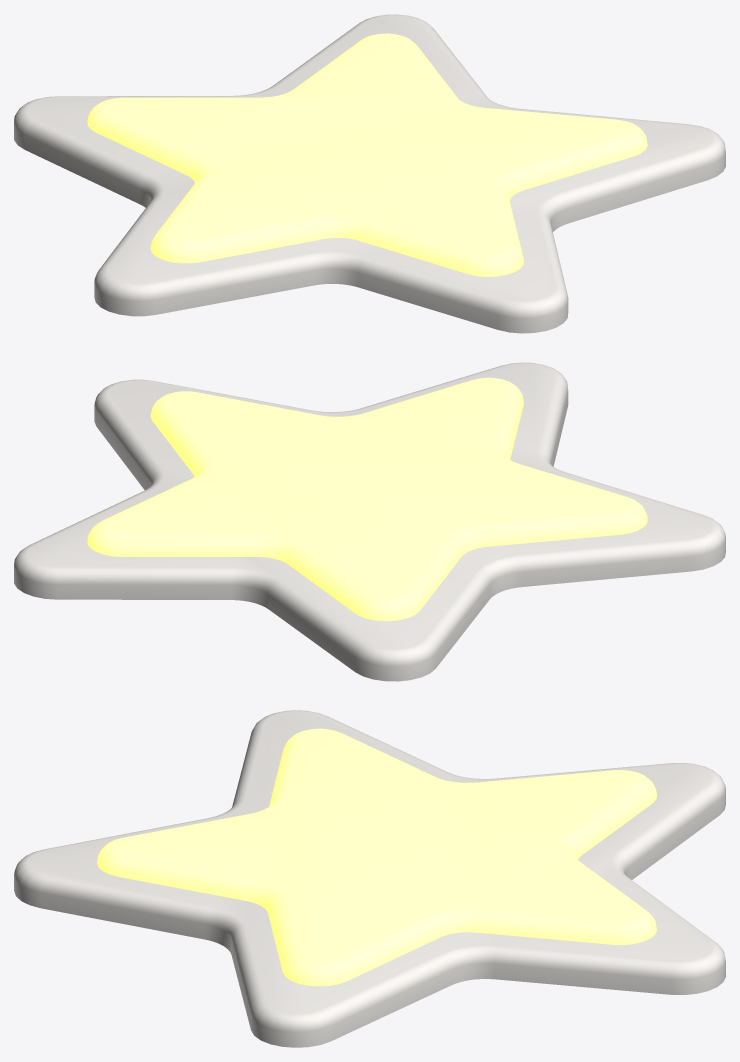
File: rollover_star_lit.glb
3 views of the same model, one above another, from view 1: azimuth 30°, elevation 25°; view 2: azimuth 150°, elevation 25°; view 3: azimuth 270°, elevation 25° (orthographic). The views are drawn at different scales.
Visible parts, largest first — view 1: rollover_star_lit; view 2: rollover_star_lit; view 3: rollover_star_lit.
Part boxes in pixels (bbox=[...]): rollover_star_lit: bbox=[14, 14, 725, 333]; rollover_star_lit: bbox=[14, 362, 725, 681]; rollover_star_lit: bbox=[14, 710, 725, 1047].
Size of the model in its own units: 1.21 by 0.08 by 1.16.
